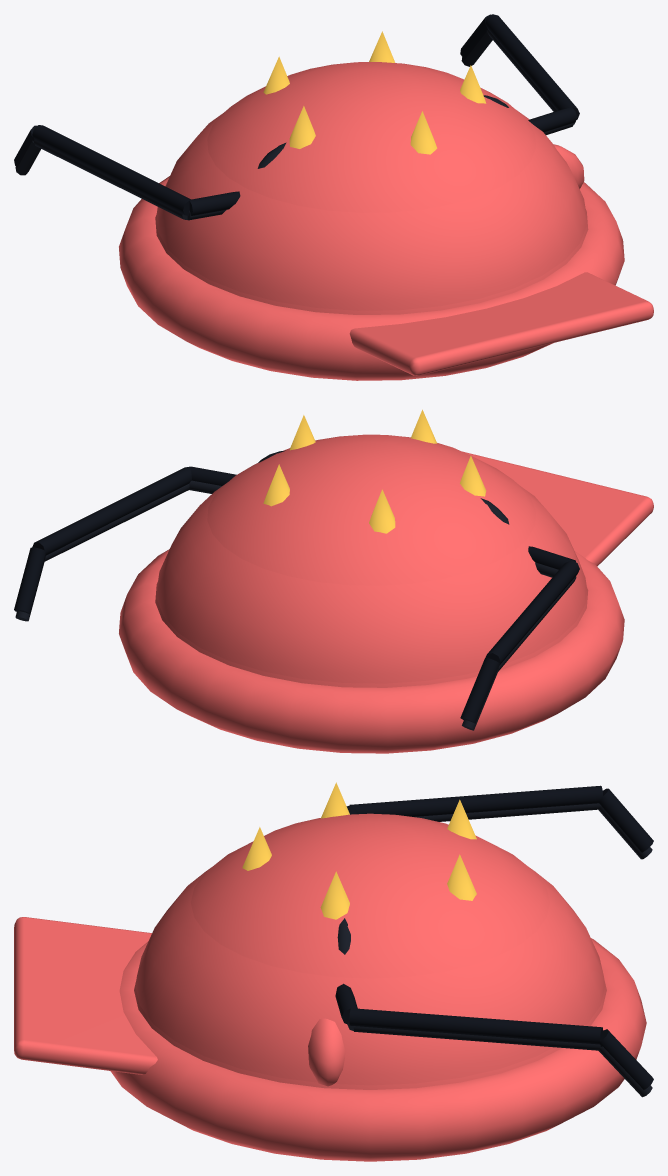
Rendered from wear.glb.
3 views of the same model, one above another, from view 1: azimuth 30°, elevation 25°; view 2: azimuth 150°, elevation 25°; view 3: azimuth 270°, elevation 25° (orthographic). The views are drawn at different scales.
Parts seen in each view (by area): view 1: beanie_dome, cap_brim, shades_bridge, crown_band, glasses_bridge; view 2: beanie_dome, cap_brim, shades_bridge, crown_band, glasses_bridge; view 3: beanie_dome, cap_brim, shades_bridge, glasses_bridge, crown_band, bow_knot.
Boxes of the visible parts, x1,y1,x2,y2 form: beanie_dome: [119, 62, 624, 380]; cap_brim: [156, 109, 653, 375]; shades_bridge: [14, 14, 579, 215]; crown_band: [263, 31, 486, 154]; glasses_bridge: [15, 29, 574, 220]; beanie_dome: [119, 434, 624, 753]; cap_brim: [156, 451, 653, 683]; shades_bridge: [14, 466, 579, 723]; crown_band: [263, 409, 486, 533]; glasses_bridge: [15, 450, 576, 730]; beanie_dome: [110, 813, 646, 1161]; cap_brim: [14, 867, 605, 1085]; shades_bridge: [335, 785, 653, 1089]; glasses_bridge: [337, 803, 652, 1097]; crown_band: [242, 782, 476, 919]; bow_knot: [308, 1018, 345, 1086].
Size of the model in its own units: 0.6937 by 0.2978 by 0.7527.
